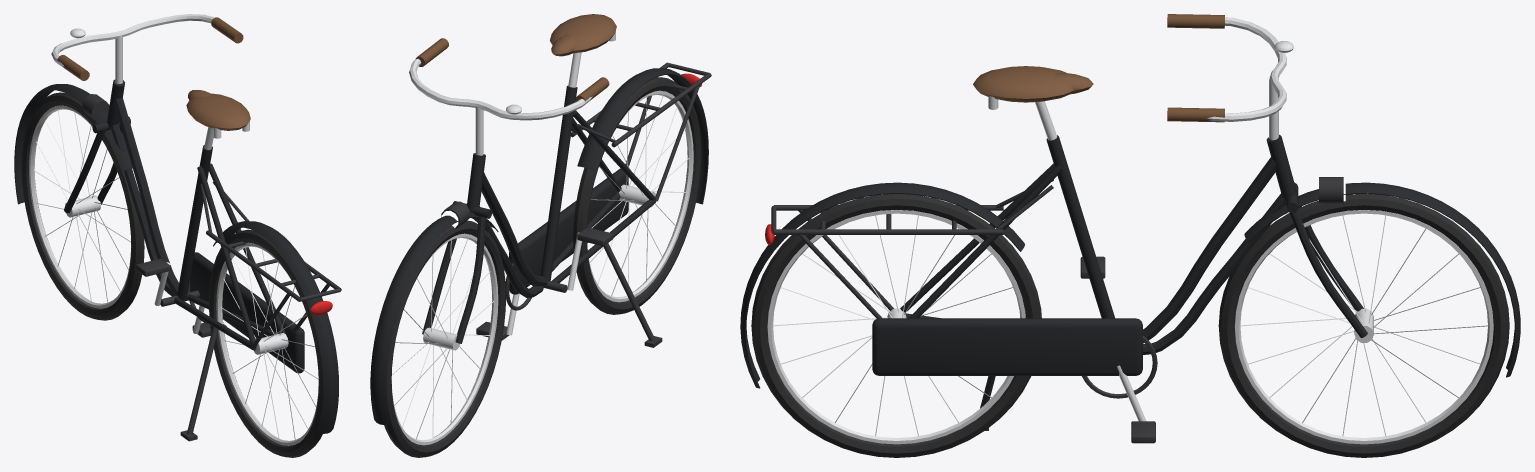
File: bike_oma.glb
The picture shows the model from 3 angles, left to right: view 1: azimuth 30°, elevation 25°; view 2: azimuth 150°, elevation 25°; view 3: azimuth 270°, elevation 25°; orthographic projection. The views are drawn at different scales.
Visible parts, largest first — view 1: frame, wheel_front, wheel_rear, crank, stand; view 2: frame, wheel_rear, wheel_front, crank, stand; view 3: frame, wheel_front, wheel_rear, crank.
Part boxes in pixels (x1,y1,x2,y2): frame: (14, 14, 341, 433); wheel_front: (21, 92, 144, 320); wheel_rear: (209, 229, 323, 457); crank: (136, 258, 226, 337); stand: (180, 326, 218, 441); frame: (370, 14, 711, 424); wheel_rear: (573, 77, 701, 314); wheel_front: (384, 220, 505, 457); crank: (476, 227, 613, 340); stand: (603, 243, 662, 347); frame: (740, 14, 1520, 388); wheel_front: (1218, 194, 1509, 457); wheel_rear: (751, 193, 1041, 457); crank: (1080, 256, 1157, 443).
Size of the model in its own units: 0.5766 by 1.07 by 1.9.
